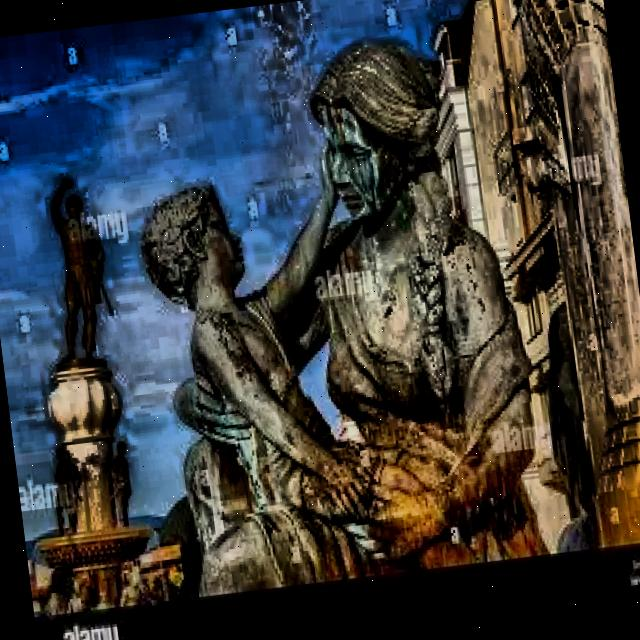Philip II of Macedonia: (0, 183, 167, 603)
